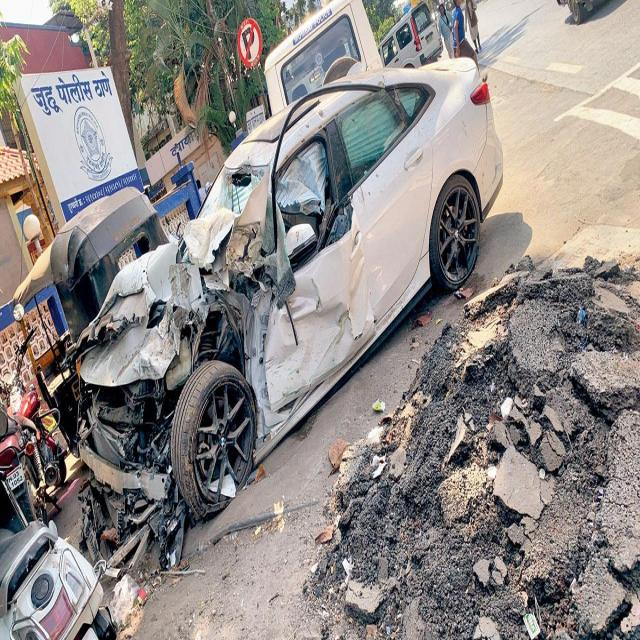accident: (78, 67, 501, 567)
autorickshaw: (12, 187, 169, 451)
car: (265, 0, 382, 113), (380, 2, 441, 67)
motorcycle: (0, 329, 66, 532)
